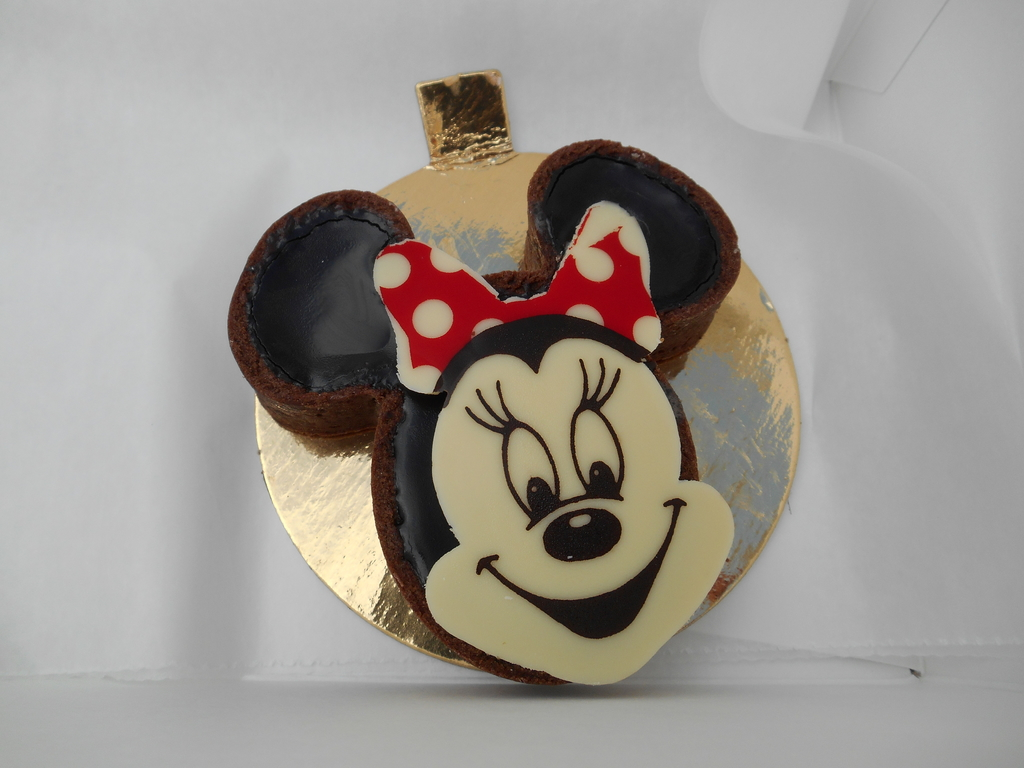cake: (222, 140, 743, 688)
